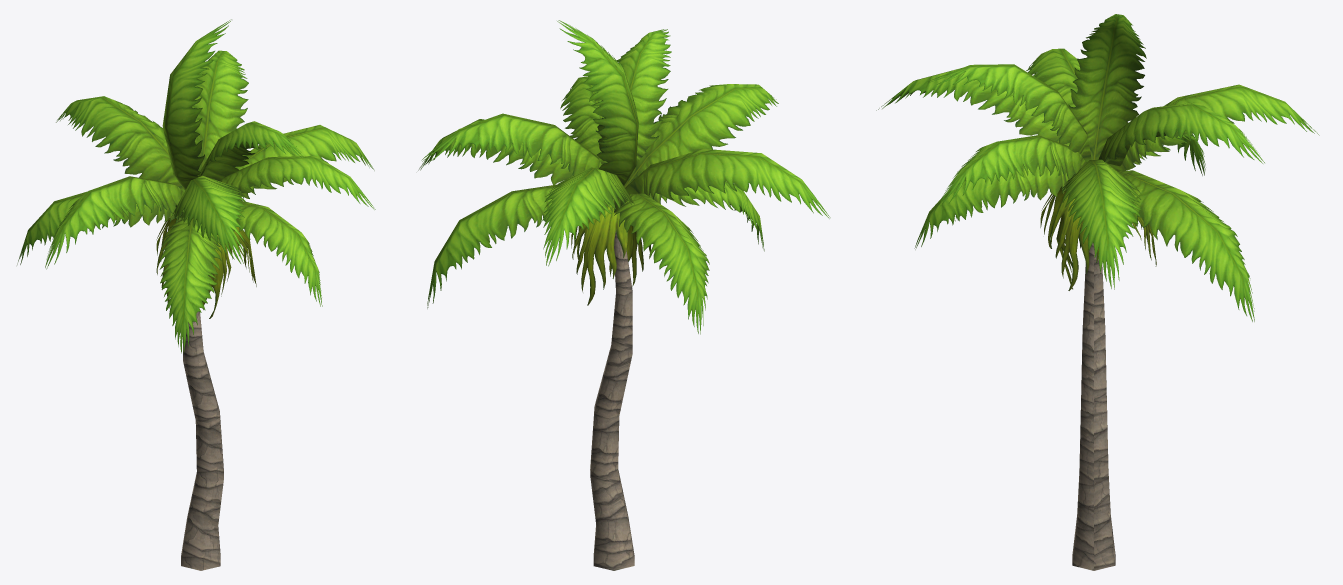
Rendered from SC_yezishu02.FBX.
The picture shows the model from 3 angles, left to right: view 1: azimuth 30°, elevation 25°; view 2: azimuth 150°, elevation 25°; view 3: azimuth 270°, elevation 25°; orthographic projection. The views are drawn at different scales.
Parts seen in each view (by area): view 1: SC_yezishu02; view 2: SC_yezishu02; view 3: SC_yezishu02.
Part boxes in pixels (left/top/right/bottom): SC_yezishu02: left=17, top=19, right=375, bottom=570; SC_yezishu02: left=418, top=20, right=830, bottom=570; SC_yezishu02: left=876, top=14, right=1319, bottom=570.
Bounding box in the file's own units: 7.5 × 10.04 × 7.39.
